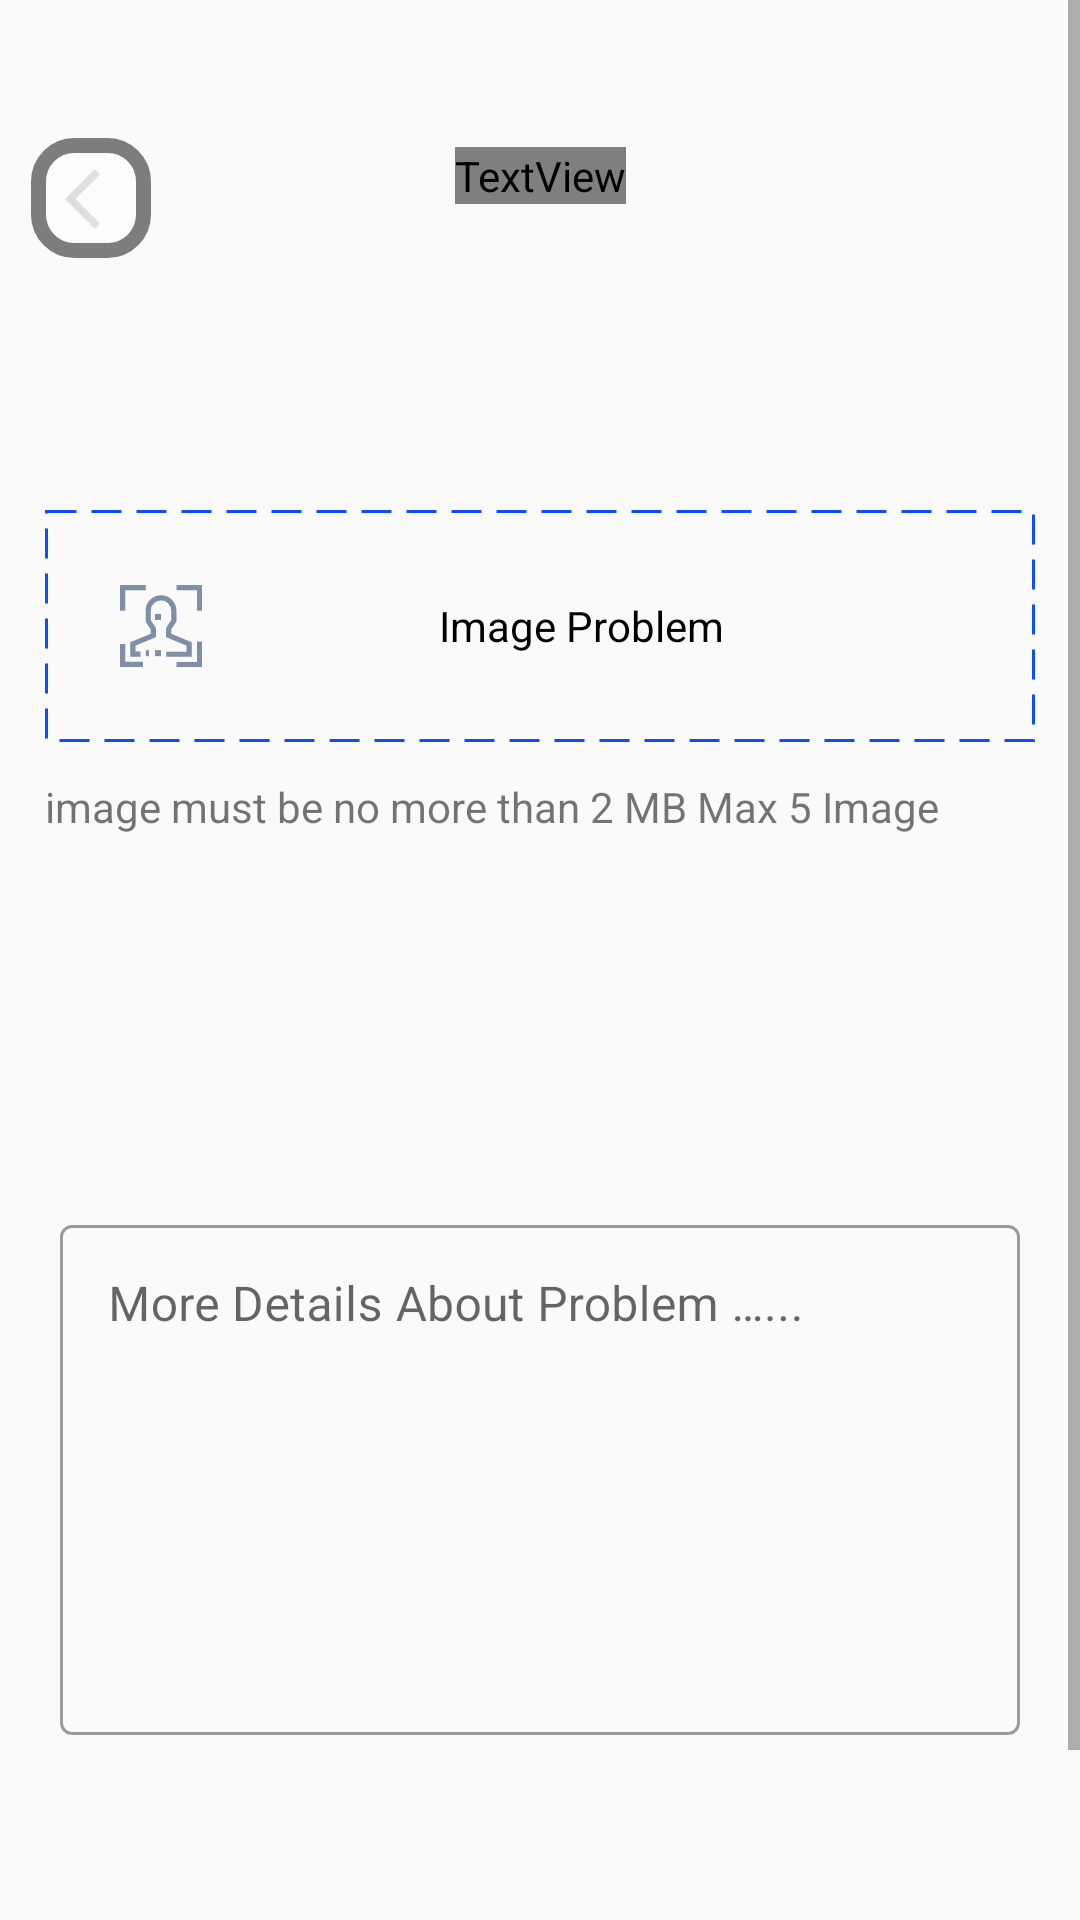

Screen size 1080*1920. Icon name, then its center in pixels as (x,y):
arrow back: (82,199)
